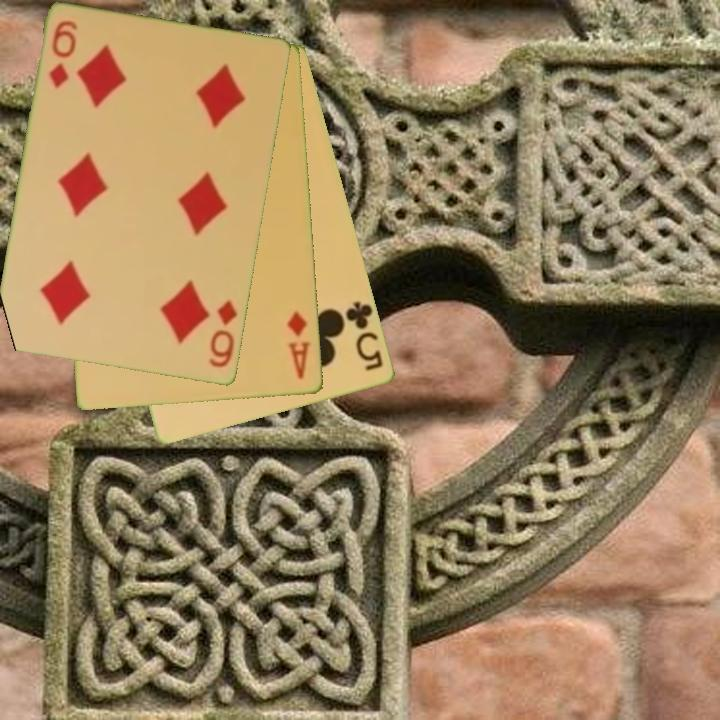5c: (342, 298, 386, 374)
6d: (46, 17, 81, 92), (206, 297, 241, 371)
Ad: (284, 308, 315, 382)
